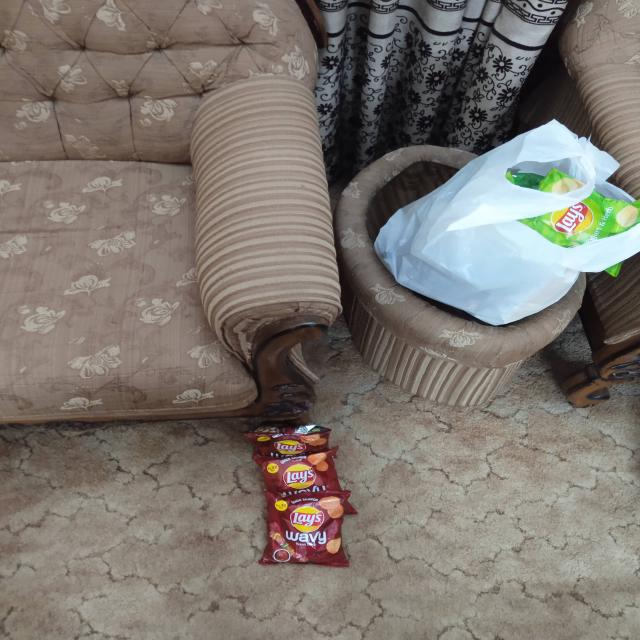Plastic: (270, 496, 348, 566), (264, 460, 338, 496), (256, 426, 331, 456)
